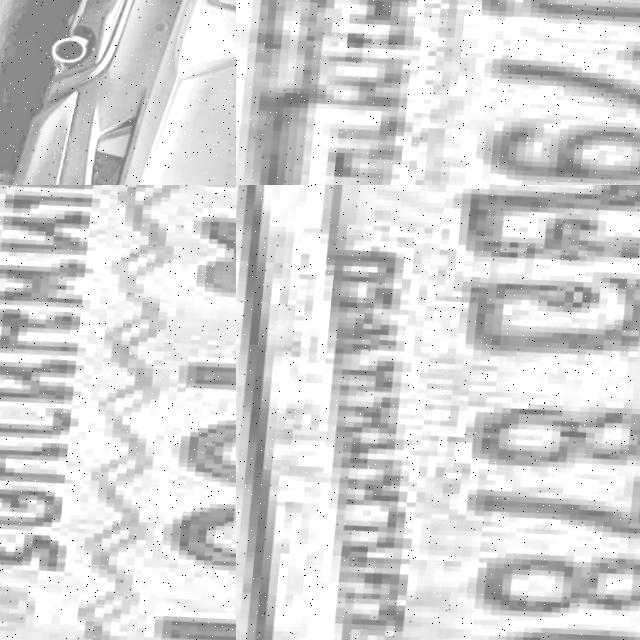license-plate: (236, 185, 640, 640), (0, 185, 236, 640), (236, 0, 640, 185)
